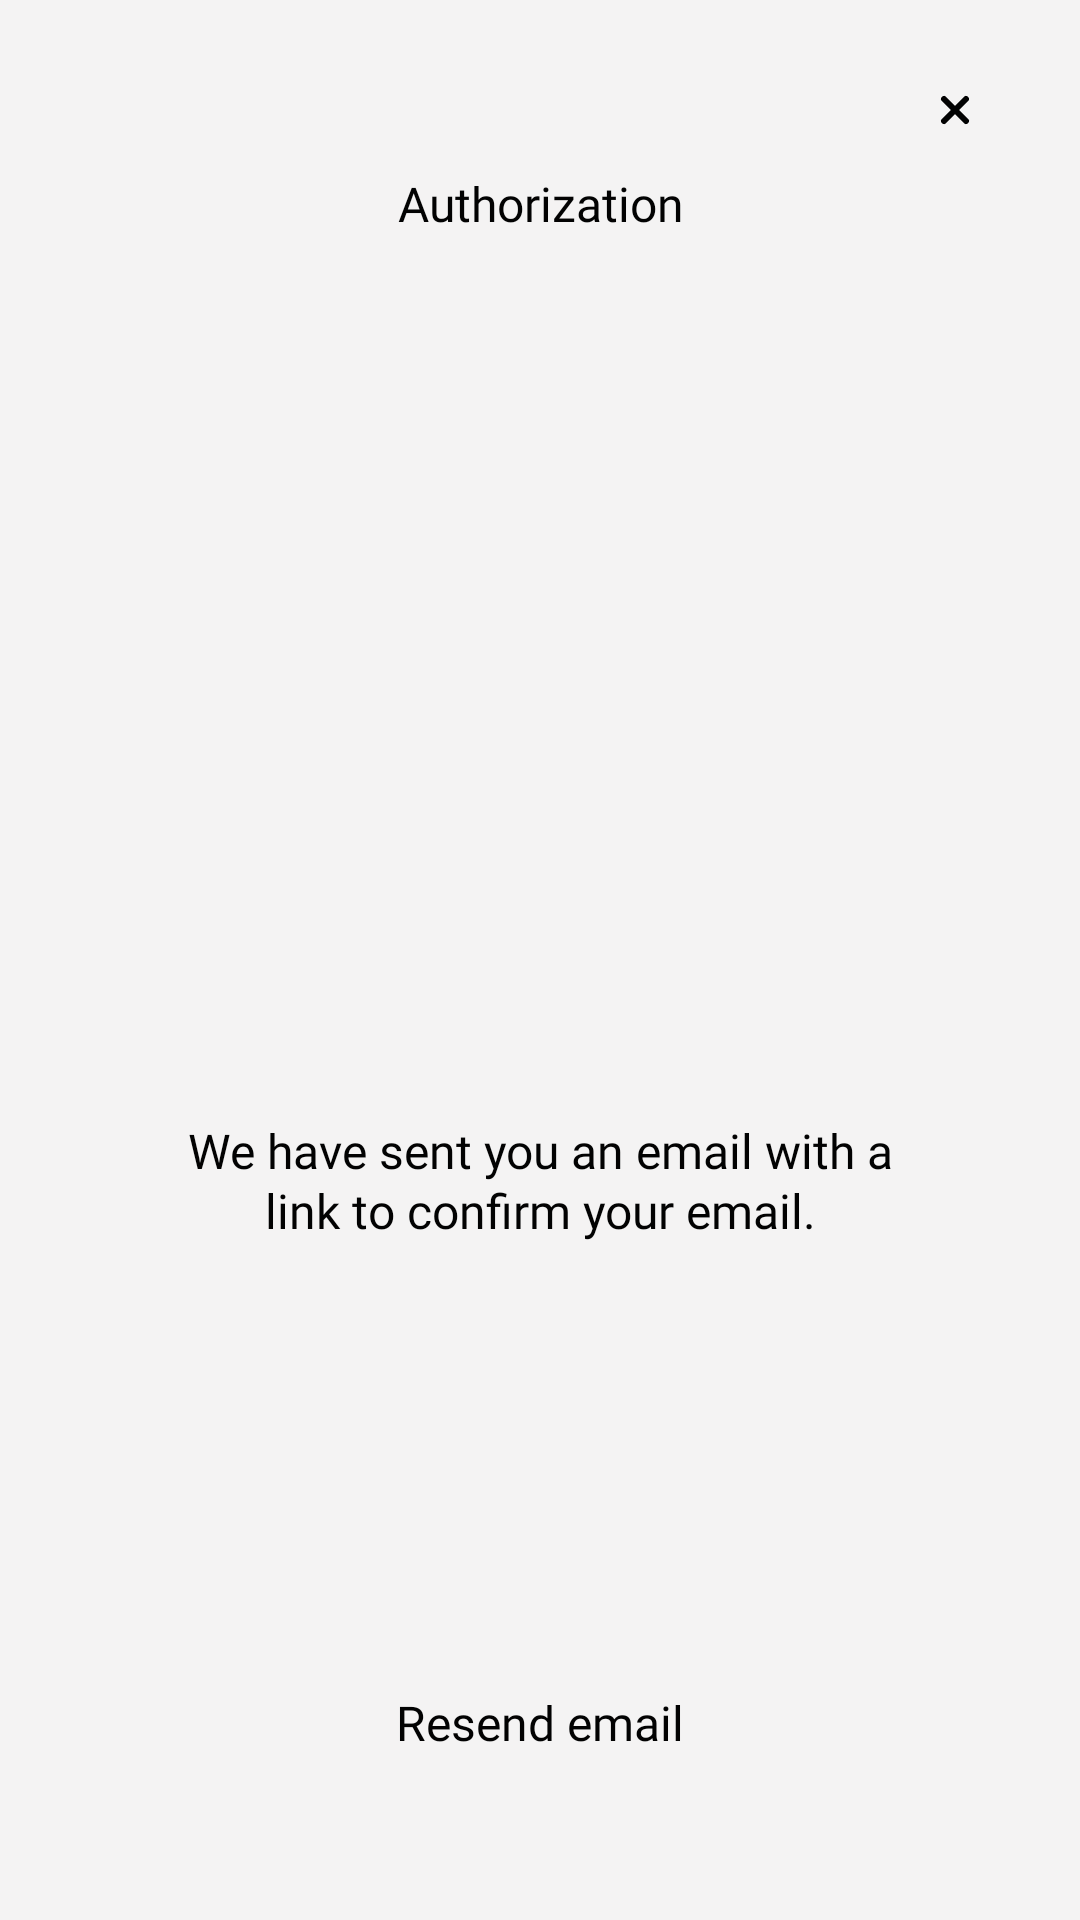

Screen size 1080w x 1920h. Icon name, then its center in pixels as point (x, y):
close auth: point (955, 110)
